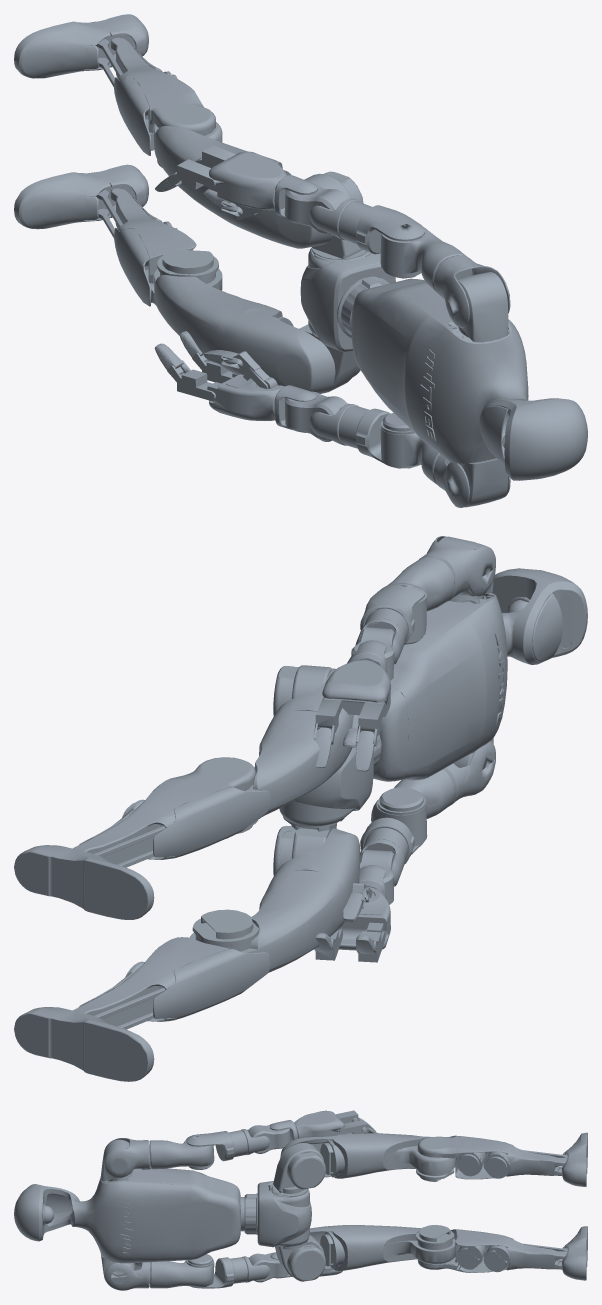
Rendered from unitree-g1.glb.
The picture shows the model from 3 angles, top to bottom: view 1: azimuth 30°, elevation 25°; view 2: azimuth 150°, elevation 25°; view 3: azimuth 270°, elevation 25°; orthographic projection. The views are drawn at different scales.
Parts seen in each view (by area): view 1: =>[0:1:1:2]; view 2: =>[0:1:1:2]; view 3: =>[0:1:1:2].
Boxes of the visible parts, box(x1,y1,x2,y2) form: =>[0:1:1:2]: box(14, 14, 587, 507); =>[0:1:1:2]: box(14, 536, 587, 1081); =>[0:1:1:2]: box(14, 1110, 587, 1290).
Size of the model in its own units: 0.2669 by 0.3908 by 1.31.
